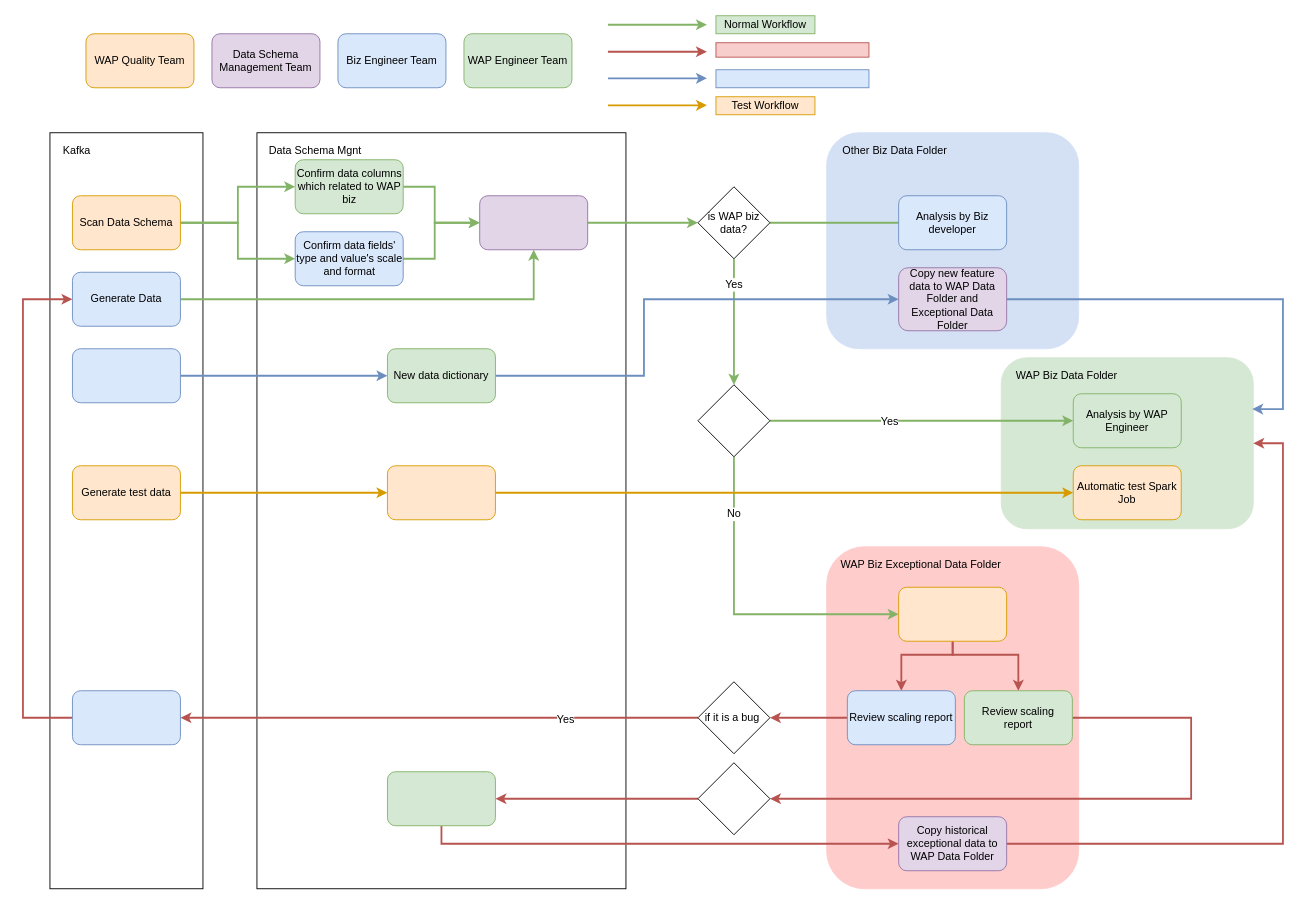
Some shapes in this 1306 by 905 pixel diagram are drawn without their labels. The box of each missing label's shape, as (x1, y1, x2, y2) in pixels:
Exceptional Data fix Workflow: (715, 42, 869, 57)
Fix Data generate issue: (72, 690, 180, 745)
if need to update data dictionary: (697, 762, 770, 835)
is match data dictionary?: (697, 384, 770, 457)
New feature onboard Workflow: (715, 69, 869, 88)
New feature schema: (72, 348, 180, 403)
Scale exceptional data: (898, 586, 1007, 641)
Sink Data based on data dictionary: (479, 195, 588, 250)
Test Data Schema Management: (387, 465, 495, 520)
Update data dictionary: (387, 771, 495, 826)
